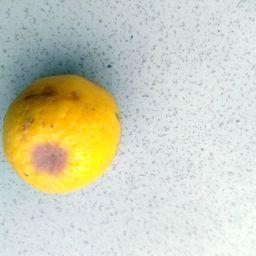orange: (2, 72, 123, 195)
